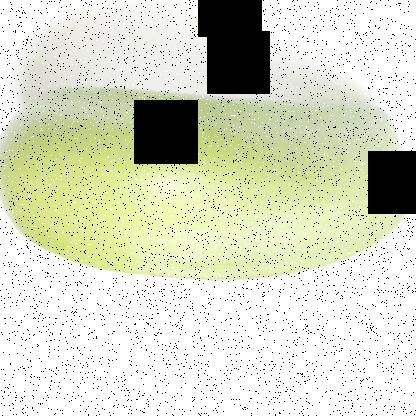freshunripe: (1, 85, 415, 290)
